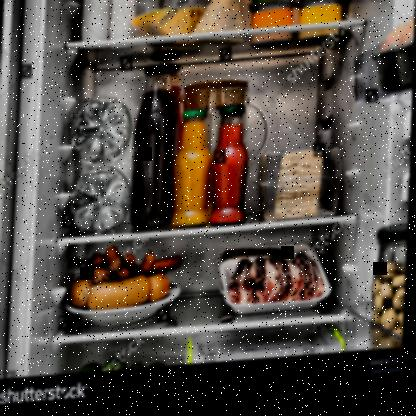beef: (236, 258, 326, 311)
cheese: (134, 8, 198, 41), (191, 0, 246, 38)
sausage: (89, 278, 151, 311), (106, 246, 126, 277), (71, 277, 90, 309), (150, 277, 173, 303), (156, 256, 185, 274), (140, 255, 157, 276), (92, 269, 112, 282), (85, 259, 97, 280), (94, 253, 108, 269)
yoghurt: (294, 0, 347, 31), (248, 4, 294, 34), (247, 0, 297, 9), (295, 0, 348, 4)
